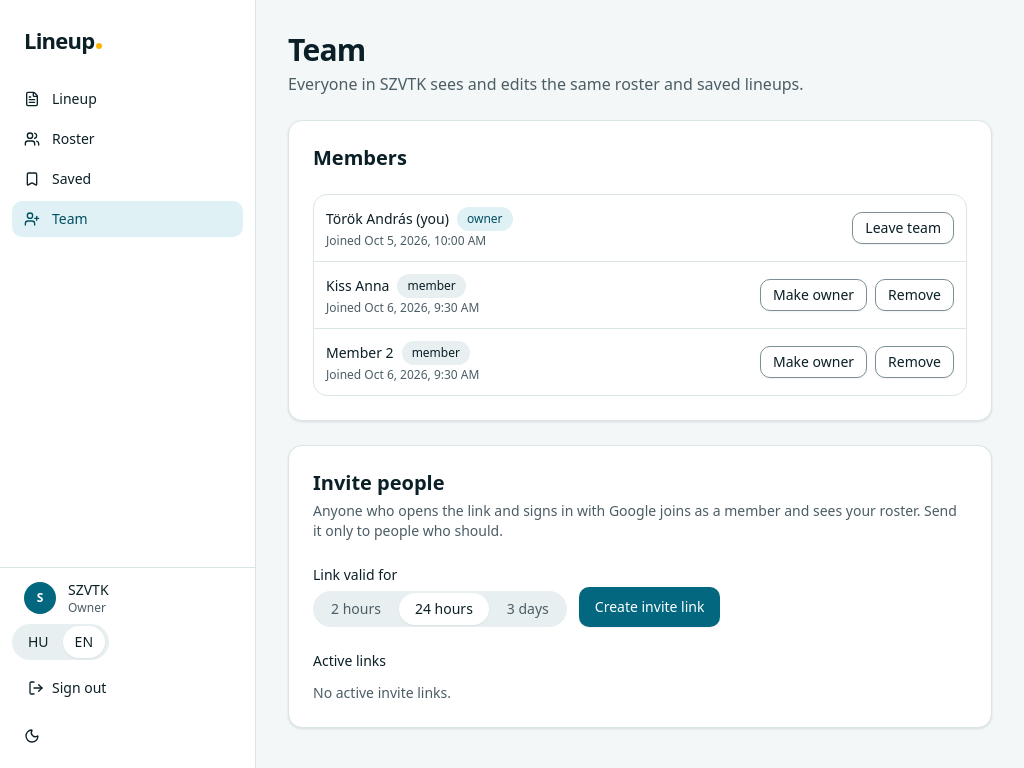
it: members list › shows names where the API has them and falls back to Member N where it has not
This screenshot has width=1024, height=768.
Expected: the button with aria-label "Remove Kiss Anna" is shown, [875,279,954,311]
Expected: the button with aria-label "Make owner: Kiss Anna" is shown, [760,279,867,311]
Click the button with aria-label "HU – Magyar": (38, 642) [16,626,61,658]
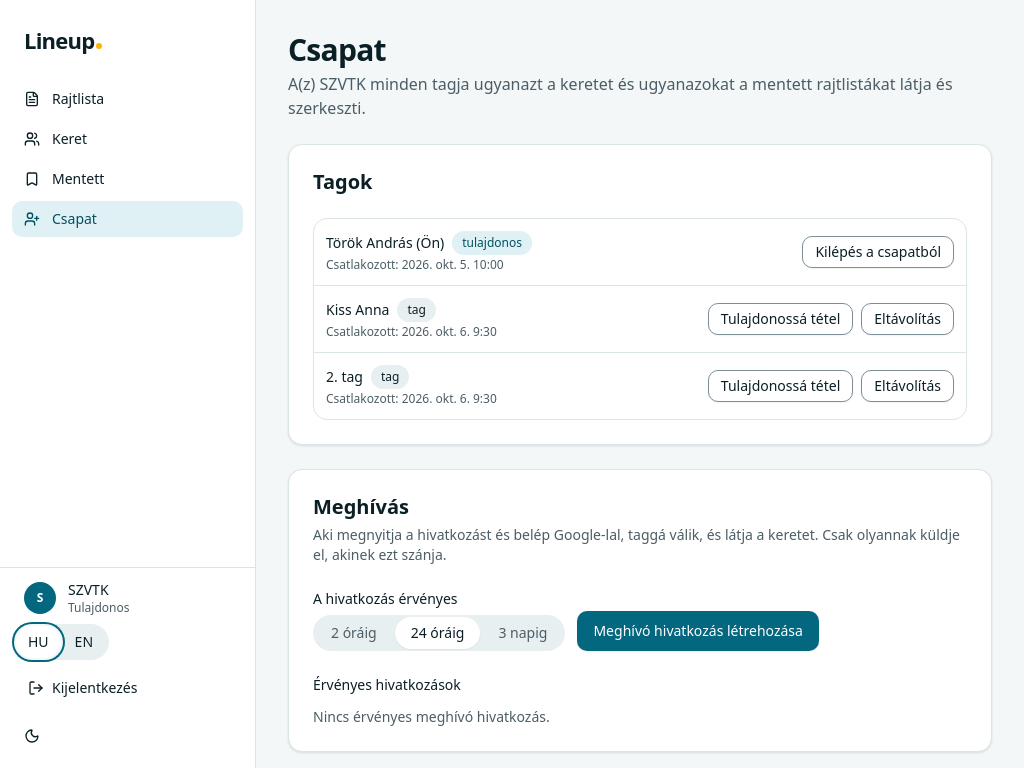
Now the text "Török András (Ön)" is shown, box [326,233,444,252]
Now the button with aria-label "Eltávolítás: Kiss Anna" is shown, box [861,303,954,335]
